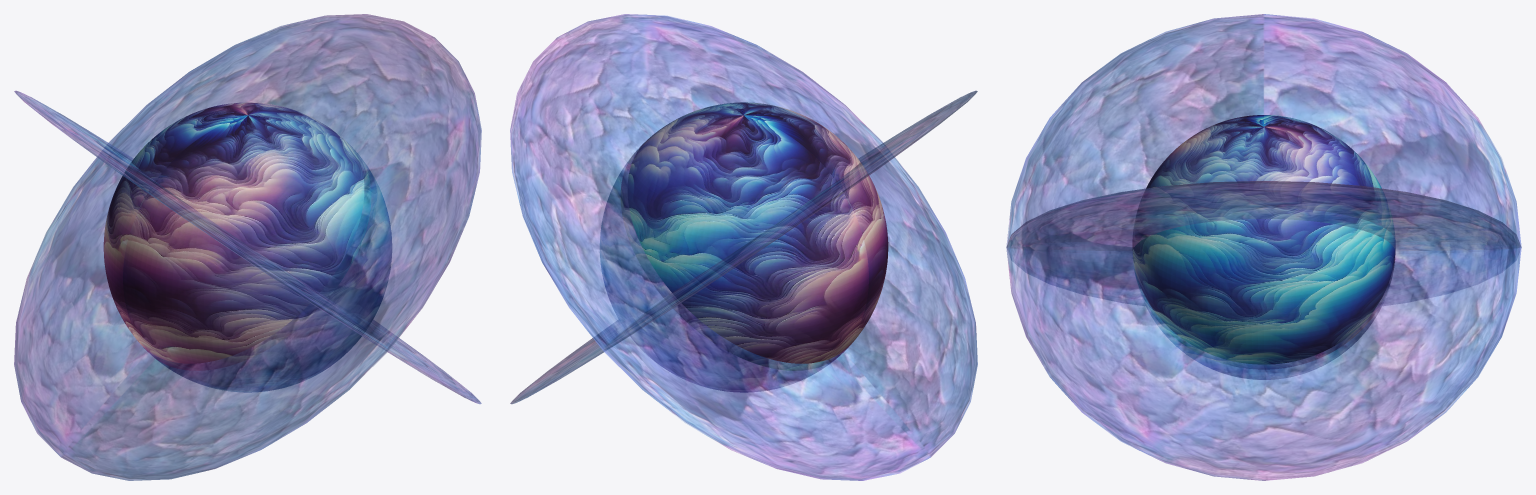
Rendered from nexus.fbx.
3 views of the same model, side by side, from view 1: azimuth 30°, elevation 25°; view 2: azimuth 150°, elevation 25°; view 3: azimuth 270°, elevation 25° (orthographic). The views are drawn at different scales.
Parts seen in each view (by area): view 1: Sphere.001, Sphere, Sphere.002; view 2: Sphere.001, Sphere, Sphere.002; view 3: Sphere.002, Sphere, Sphere.001.
Boxes of the visible parts, x1,y1,x2,y2 form: Sphere.001: (14, 14, 481, 480); Sphere: (103, 102, 391, 392); Sphere.002: (14, 90, 481, 404); Sphere.001: (510, 14, 977, 480); Sphere: (600, 102, 888, 392); Sphere.002: (510, 90, 977, 404); Sphere.002: (1006, 14, 1521, 480); Sphere: (1132, 115, 1395, 379); Sphere.001: (1006, 180, 1521, 305).
Bounding box in the file's own units: 296 × 248 × 386.
Materials: 3 (3 with a texture image).
